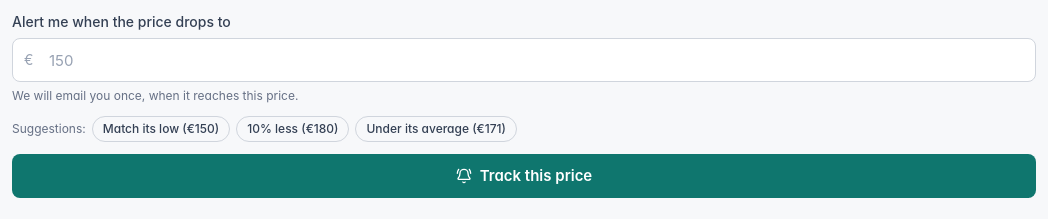
Test: TargetPriceForm › rejects zero and negative targets
In the field labelled "Alert me when the price drops to": (524, 60) top-left (12, 38), bottom-right (1036, 82), type "0"
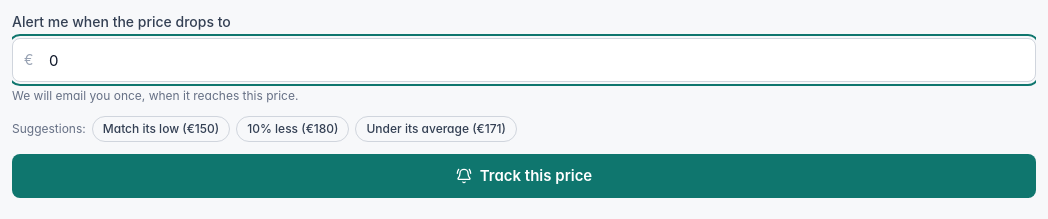
Click the button "Track this price": (524, 176) top-left (12, 154), bottom-right (1036, 198)
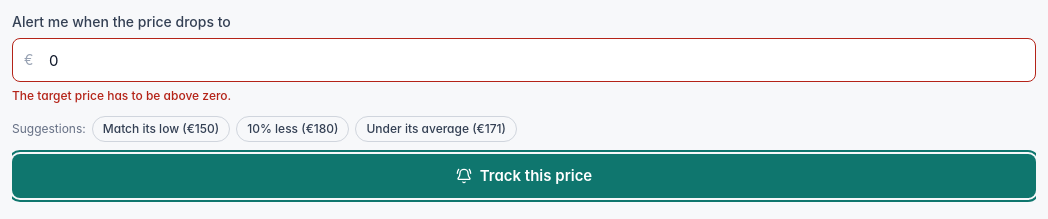
Expected: the message shows "above zero", top-left (12, 88), bottom-right (231, 103)
